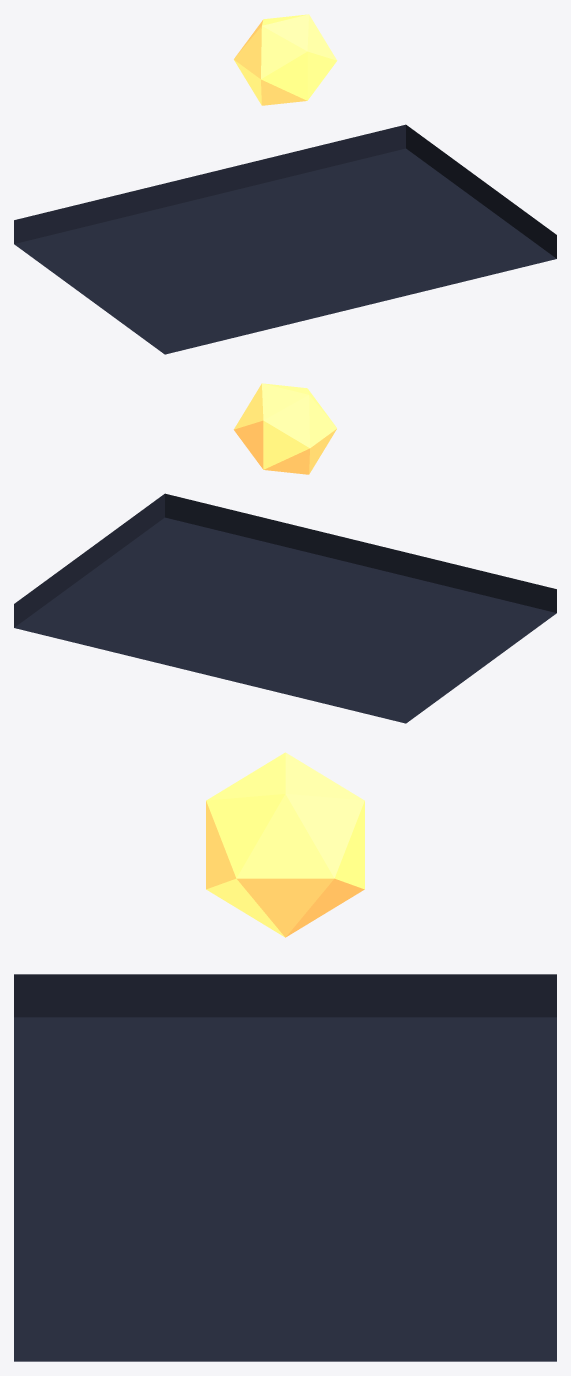
Rendered from focus-memory-chamber-v1.gltf.
3 views of the same model, one above another, from view 1: azimuth 30°, elevation 25°; view 2: azimuth 150°, elevation 25°; view 3: azimuth 270°, elevation 25° (orthographic). The views are drawn at different scales.
Parts seen in each view (by area): view 1: focus-plinth, selected-memory-core; view 2: focus-plinth, selected-memory-core; view 3: focus-plinth, selected-memory-core.
Part boxes in pixels (left/top/right/bottom): focus-plinth: left=14, top=124, right=556, bottom=354; selected-memory-core: left=234, top=14, right=337, bottom=105; focus-plinth: left=14, top=493, right=556, bottom=723; selected-memory-core: left=233, top=383, right=336, bottom=474; focus-plinth: left=14, top=974, right=556, bottom=1361; selected-memory-core: left=206, top=752, right=364, bottom=937.
Size of the model in its own units: 4.8 by 2.71 by 3.2.
